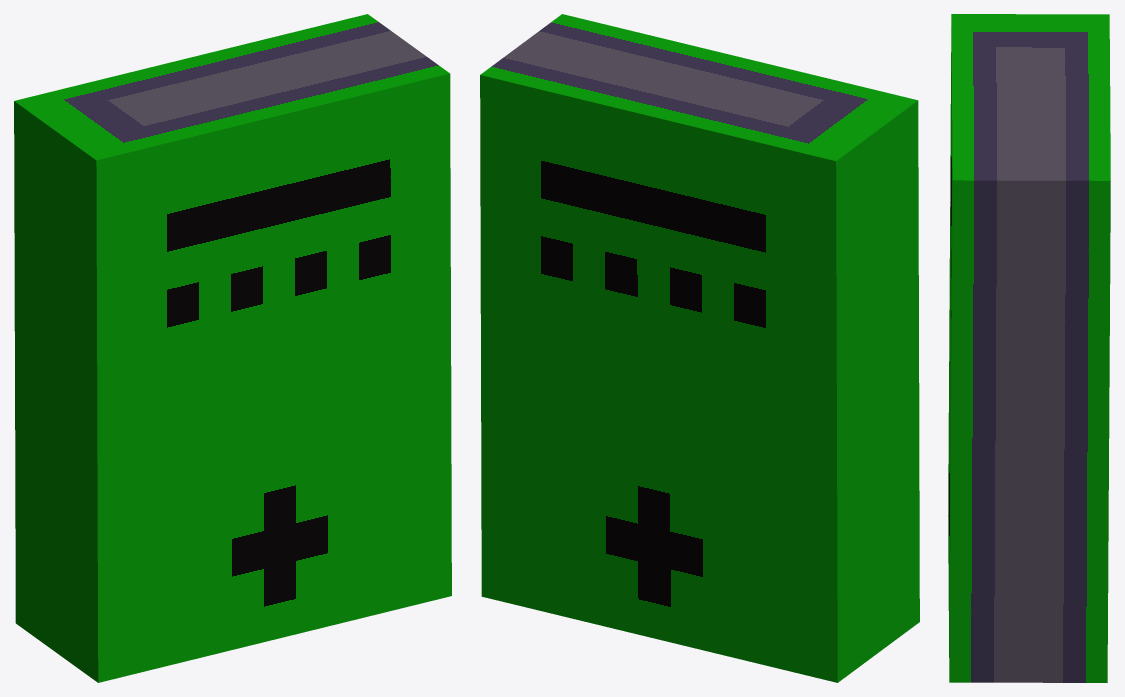
The model's file is book.glb.
The picture shows the model from 3 angles, left to right: view 1: azimuth 30°, elevation 25°; view 2: azimuth 150°, elevation 25°; view 3: azimuth 270°, elevation 25°; orthographic projection. The views are drawn at different scales.
Parts seen in each view (by area): view 1: Book; view 2: Book; view 3: Book.
Boxes of the visible parts, <box> form: Book: <box>14,14,451,682</box>; Book: <box>480,14,919,682</box>; Book: <box>948,14,1110,682</box>.
Bounding box in the file's own units: 0.74 × 1.04 × 0.3052.
Materials: 1 (1 with a texture image).
